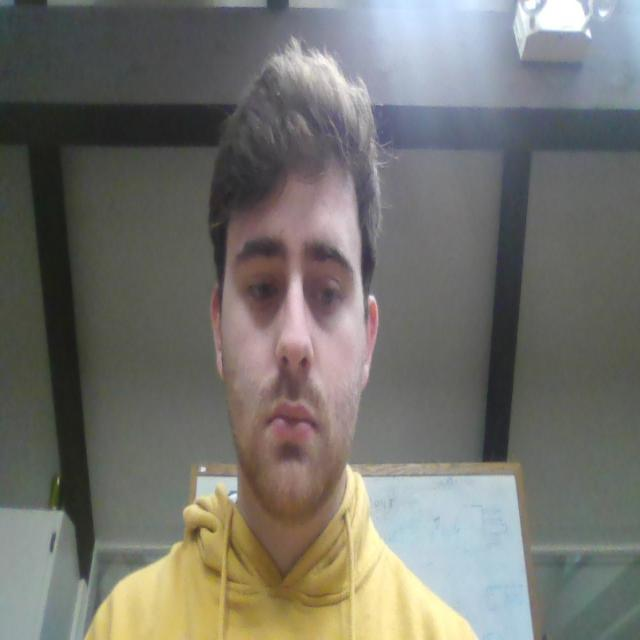gaze: (320, 286, 334, 304), (259, 281, 271, 299)
